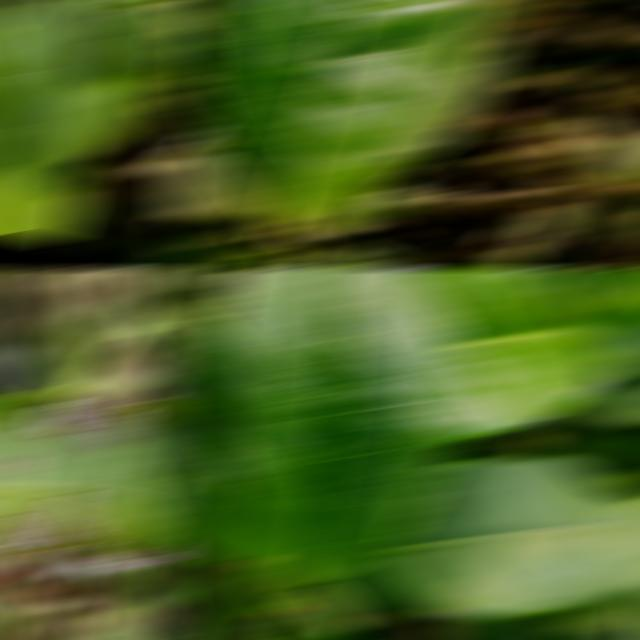Leaf: (207, 270, 464, 585), (185, 2, 491, 225), (323, 458, 640, 616), (402, 270, 610, 440), (0, 389, 182, 563), (162, 310, 269, 561), (0, 2, 94, 244), (64, 29, 182, 160), (451, 200, 578, 266), (162, 156, 267, 218), (207, 569, 283, 638), (19, 327, 91, 389), (579, 294, 640, 357), (301, 239, 423, 266), (528, 270, 605, 310), (162, 244, 278, 266), (67, 609, 147, 638), (133, 564, 182, 607), (587, 270, 640, 301), (162, 270, 222, 290), (71, 2, 109, 8)
